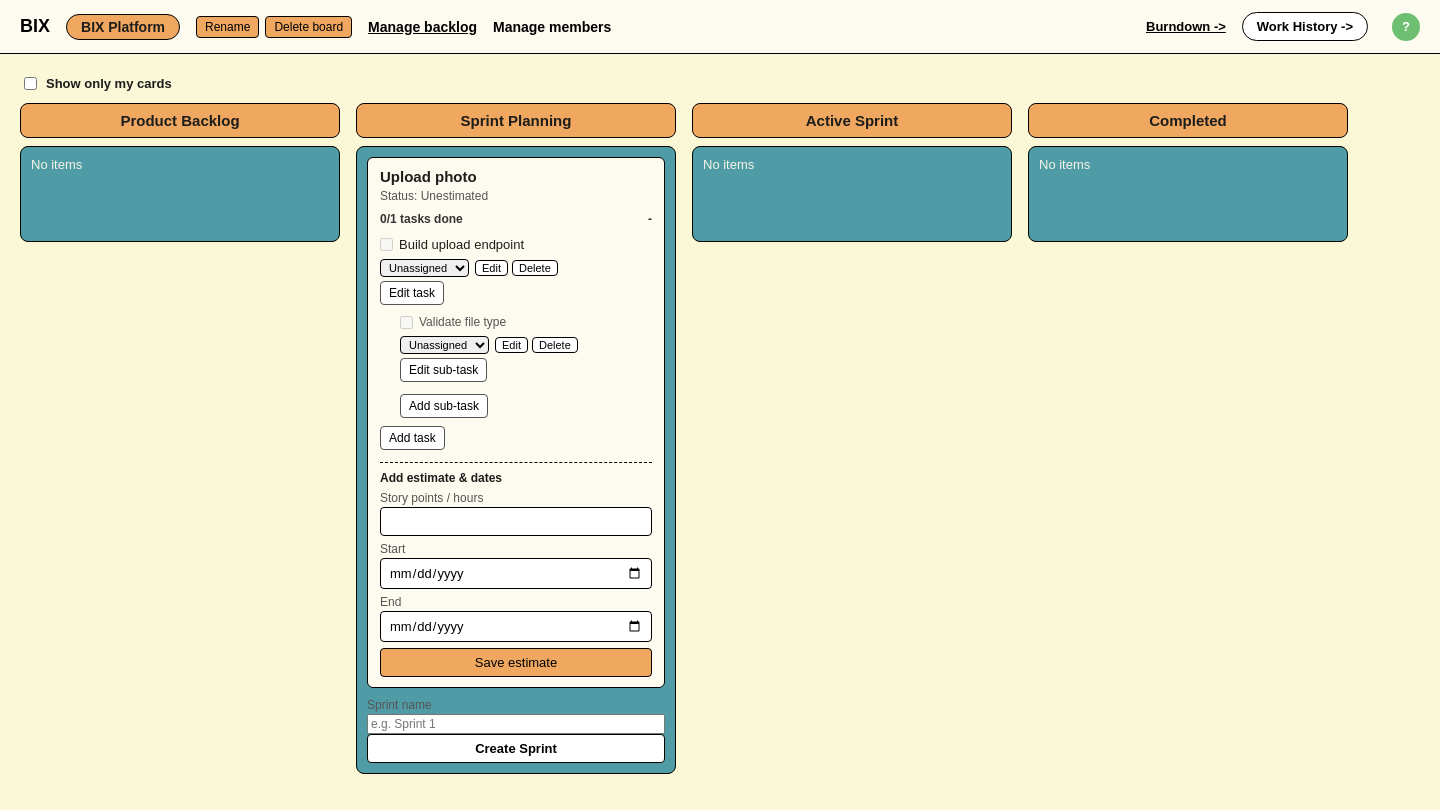
Test: Board page - admin task/sub-task controls (US-04a) › edits a task through the inline form and refreshes from the server
The width and height of the screenshot is (1440, 810).
Expected: the text "Build upload endpoint" is shown, [399, 237, 524, 252]
Click the button "Edit" below "Build upload endpoint" at (492, 268), box [475, 260, 508, 276]
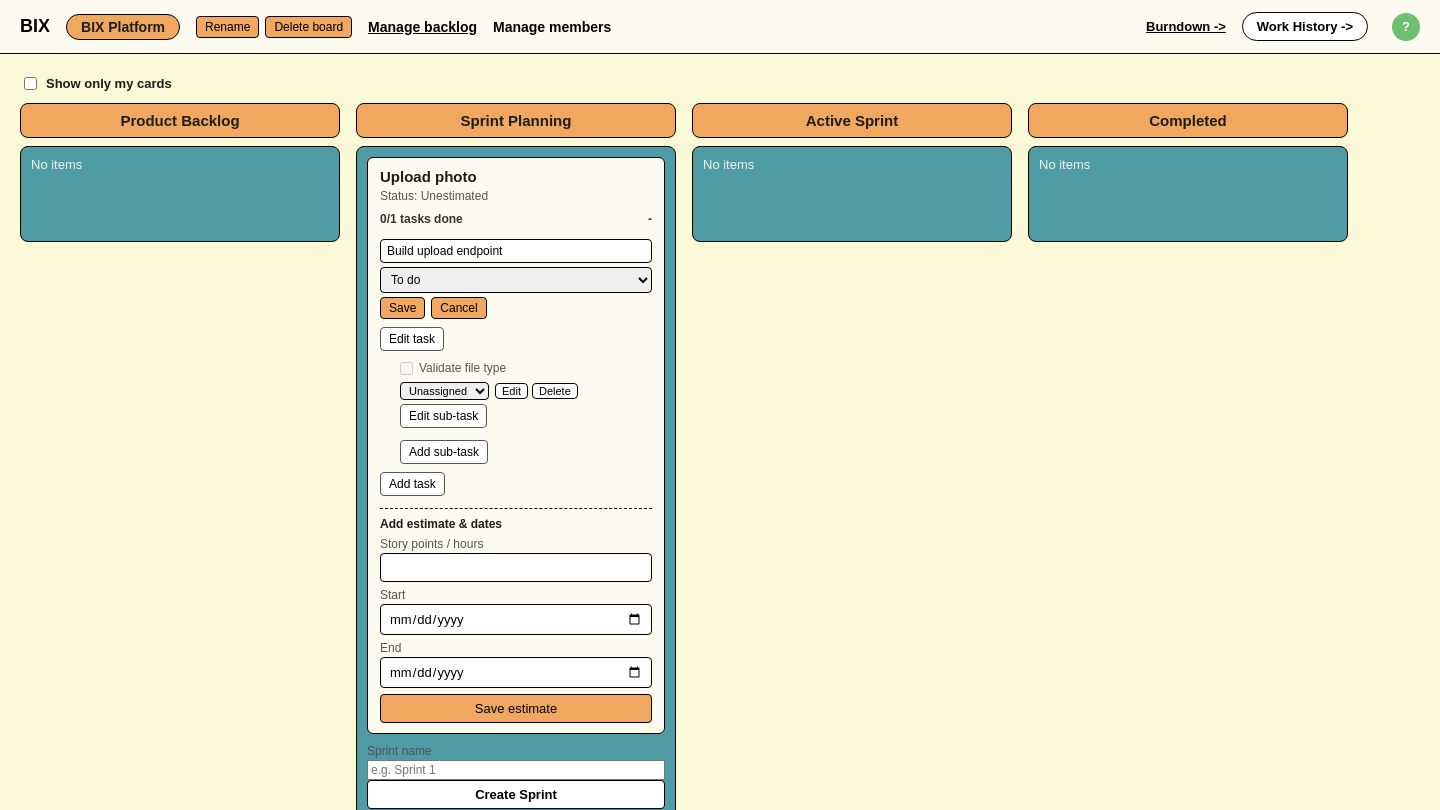
Now the field named "Title" holds "Build upload endpoint"
Replace the text in the field named "Title" with "Build upload endpoint (v2)" at (516, 251), box [380, 239, 652, 263]
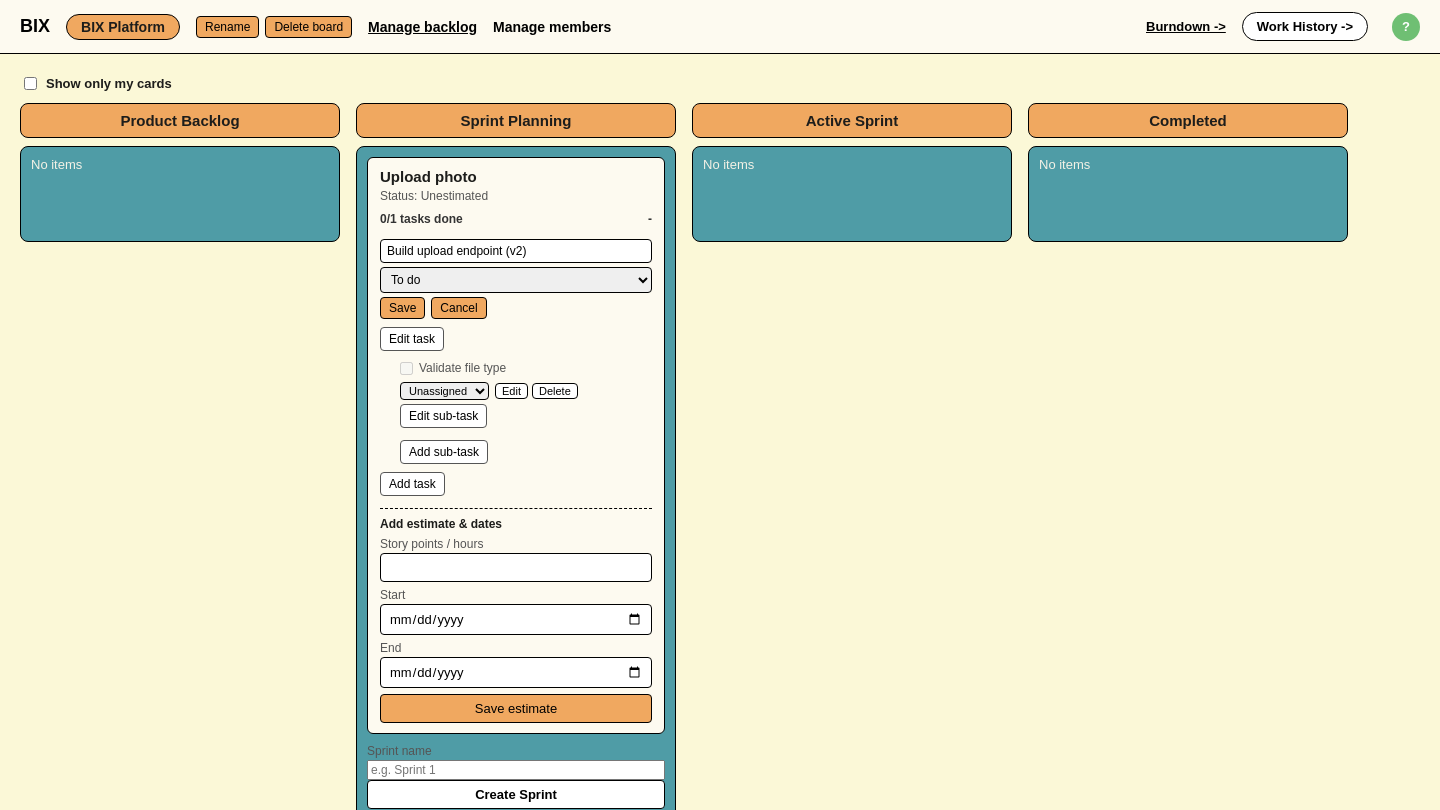
Select "In progress" in the dropdown named "Status" at (516, 280), box [380, 267, 652, 293]
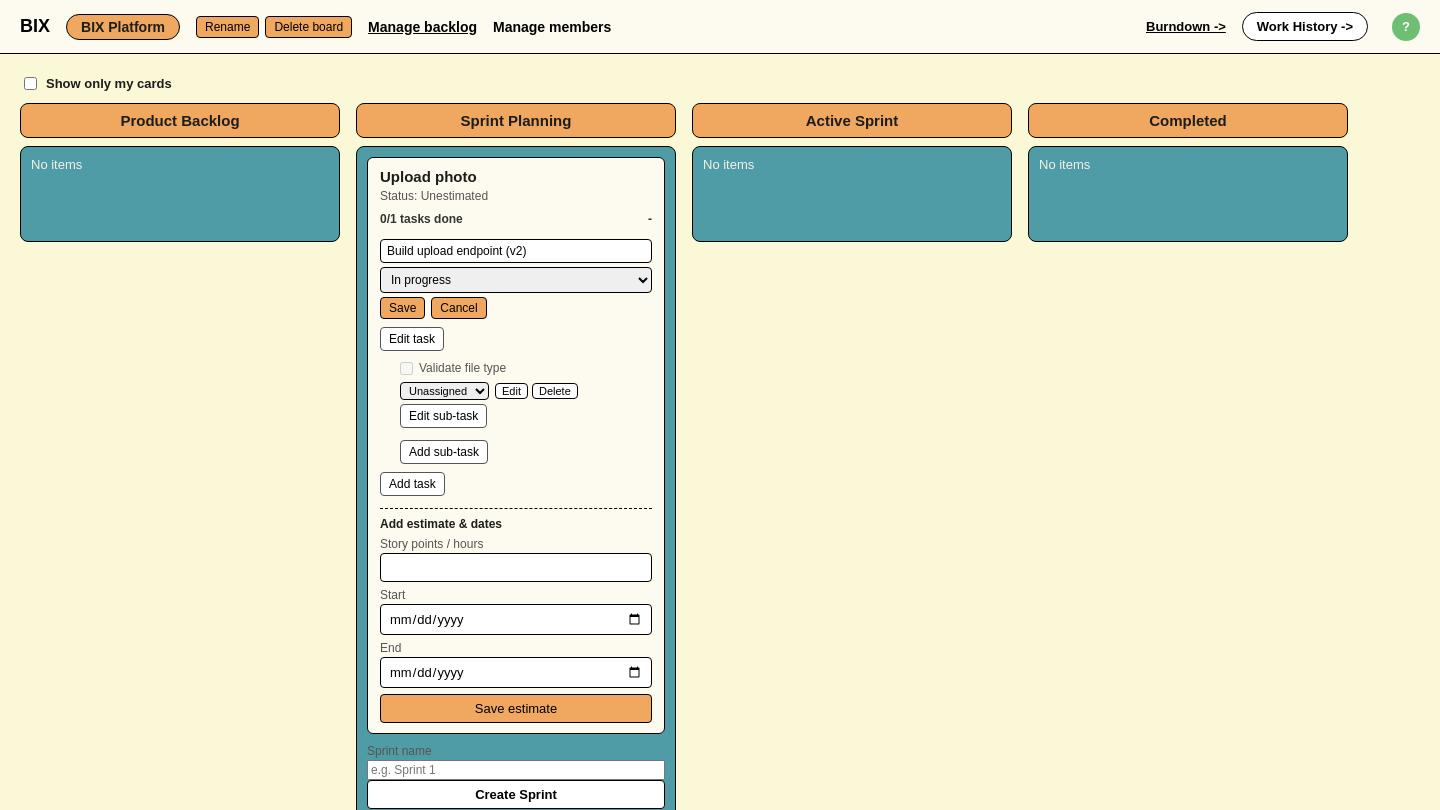
Click the button "Save" at (403, 308), box [380, 297, 425, 319]
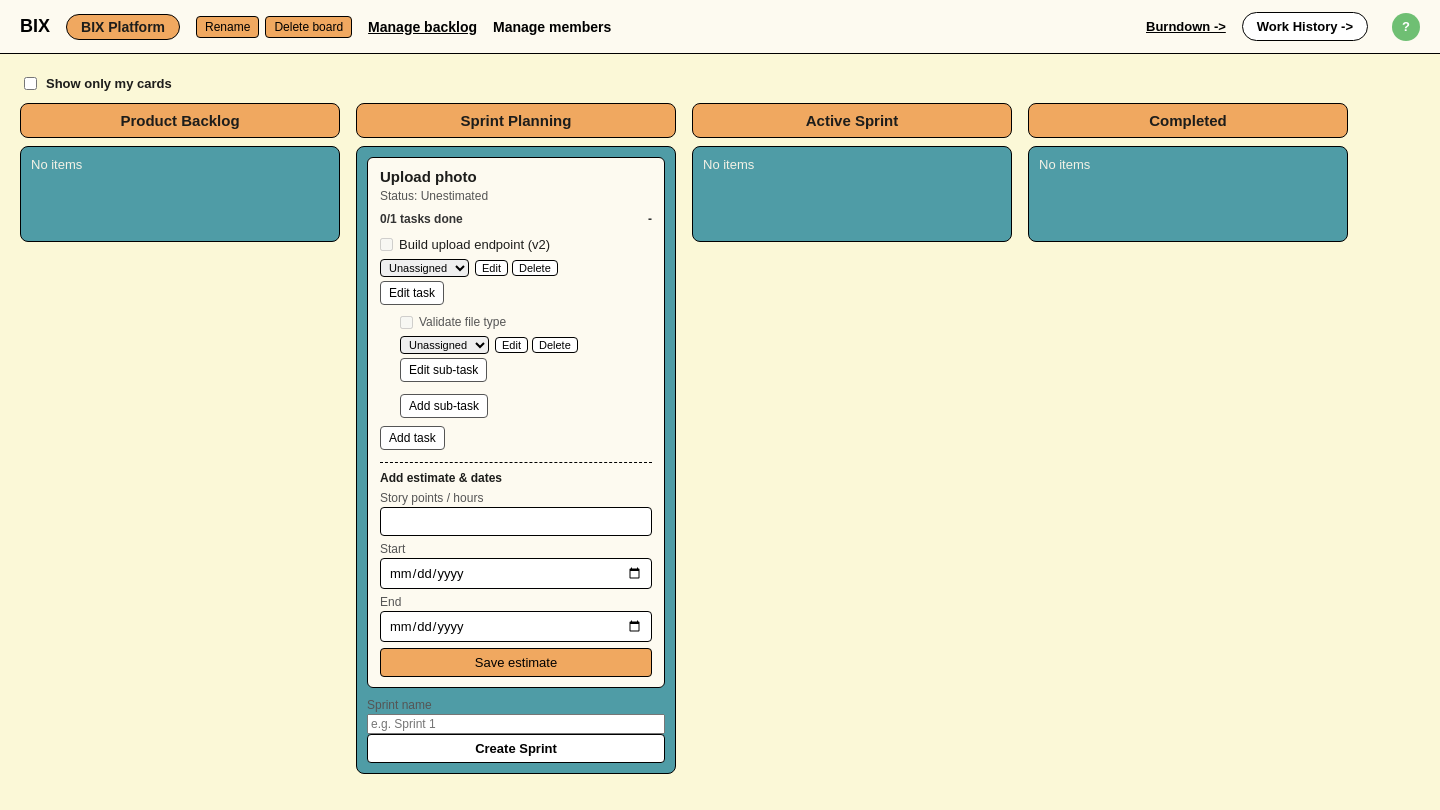
Now the text "Build upload endpoint (v2)" is shown, box [399, 237, 550, 252]
Now the field labelled "Title" is gone
